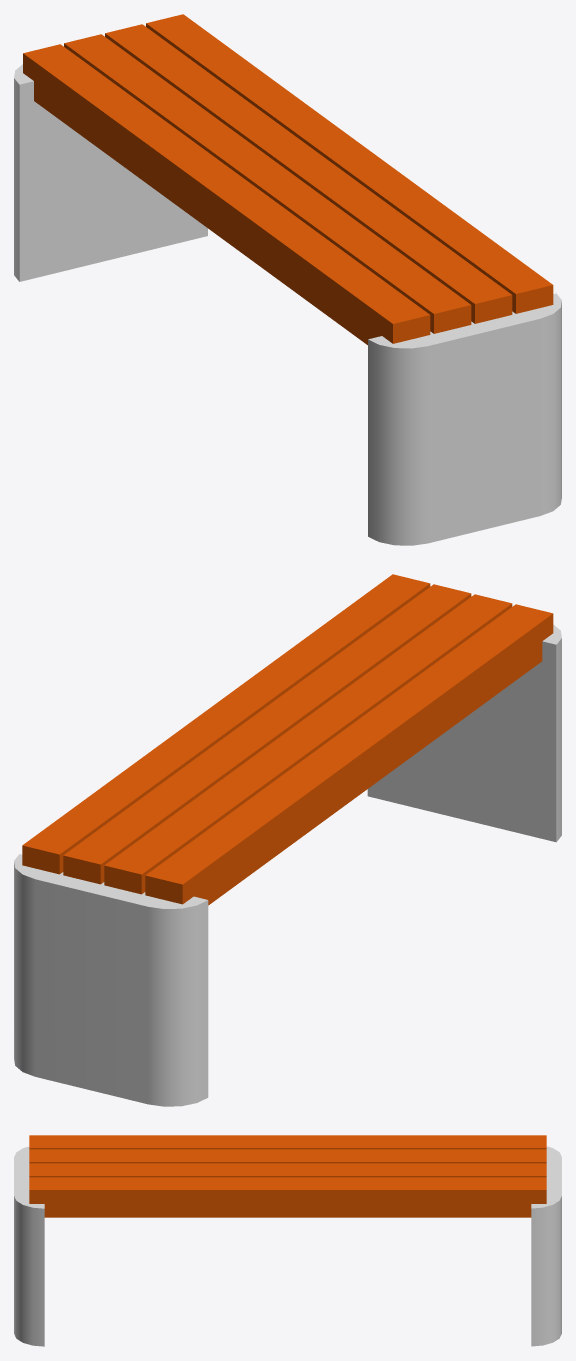
3 views of the same model, one above another, from view 1: azimuth 30°, elevation 25°; view 2: azimuth 150°, elevation 25°; view 3: azimuth 270°, elevation 25° (orthographic). The views are drawn at different scales.
Visible parts, largest first — view 1: TRAFFIC_FULL.009; view 2: TRAFFIC_FULL.009; view 3: TRAFFIC_FULL.009.
Part boxes in pixels (box(x1,y1,x2,y2)): TRAFFIC_FULL.009: box(14, 14, 561, 545); TRAFFIC_FULL.009: box(14, 574, 561, 1106); TRAFFIC_FULL.009: box(14, 1135, 561, 1346).
Bounding box in the file's own units: 0.8953 × 0.9834 × 3.22.
